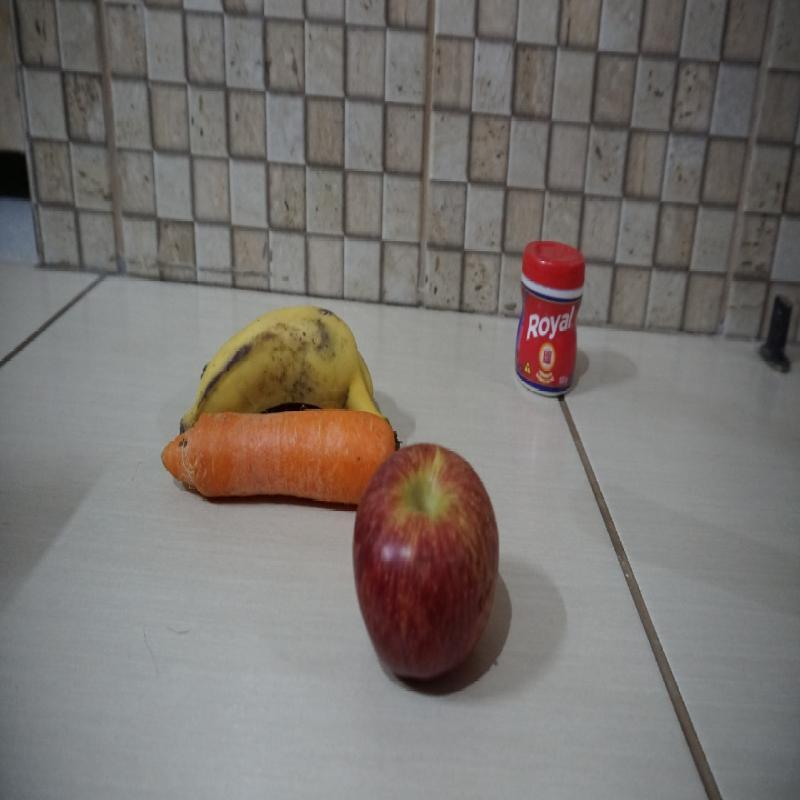Apple: (355, 442, 505, 671)
Banana: (180, 299, 390, 406)
Carrot: (157, 410, 352, 509)
Yeast: (517, 235, 583, 395)
